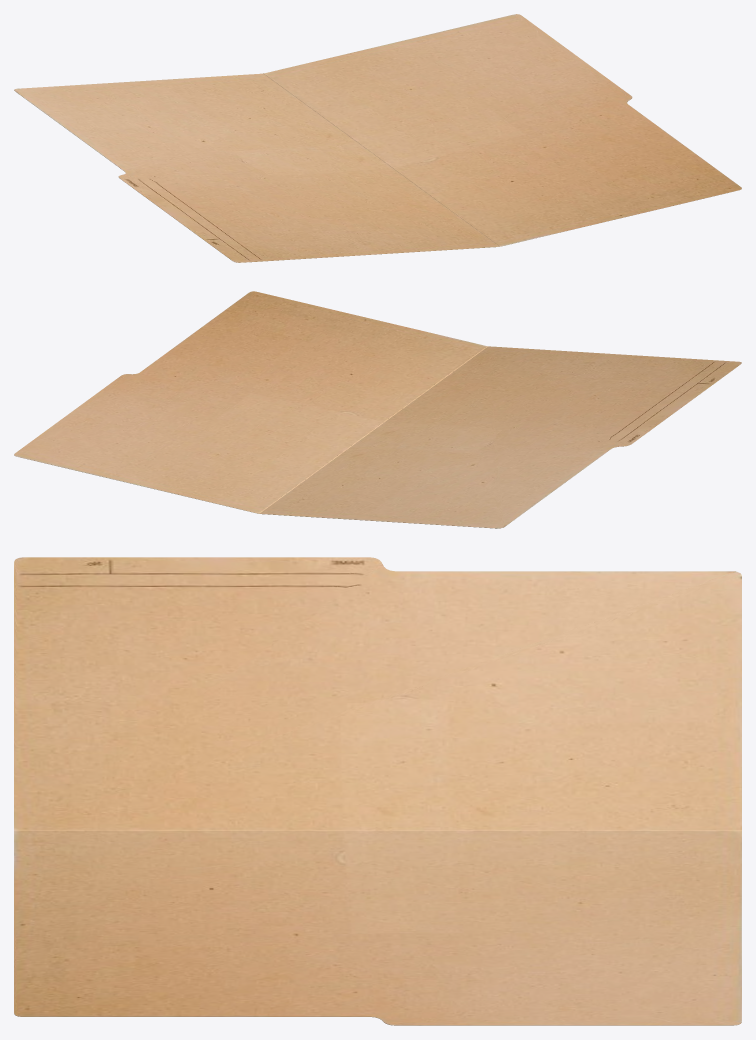
The model's file is file folder.fbx.
3 views of the same model, one above another, from view 1: azimuth 30°, elevation 25°; view 2: azimuth 150°, elevation 25°; view 3: azimuth 270°, elevation 25° (orthographic). The views are drawn at different scales.
Visible parts, largest first — view 1: Plane.007; view 2: Plane.007; view 3: Plane.007.
Boxes of the visible parts, bbox=[...] form: Plane.007: bbox=[14, 14, 741, 262]; Plane.007: bbox=[14, 291, 741, 528]; Plane.007: bbox=[14, 557, 741, 1025].
Size of the model in its own units: 0.4632 by 0.043 by 0.365.
Materials: 1 (1 with a texture image).
